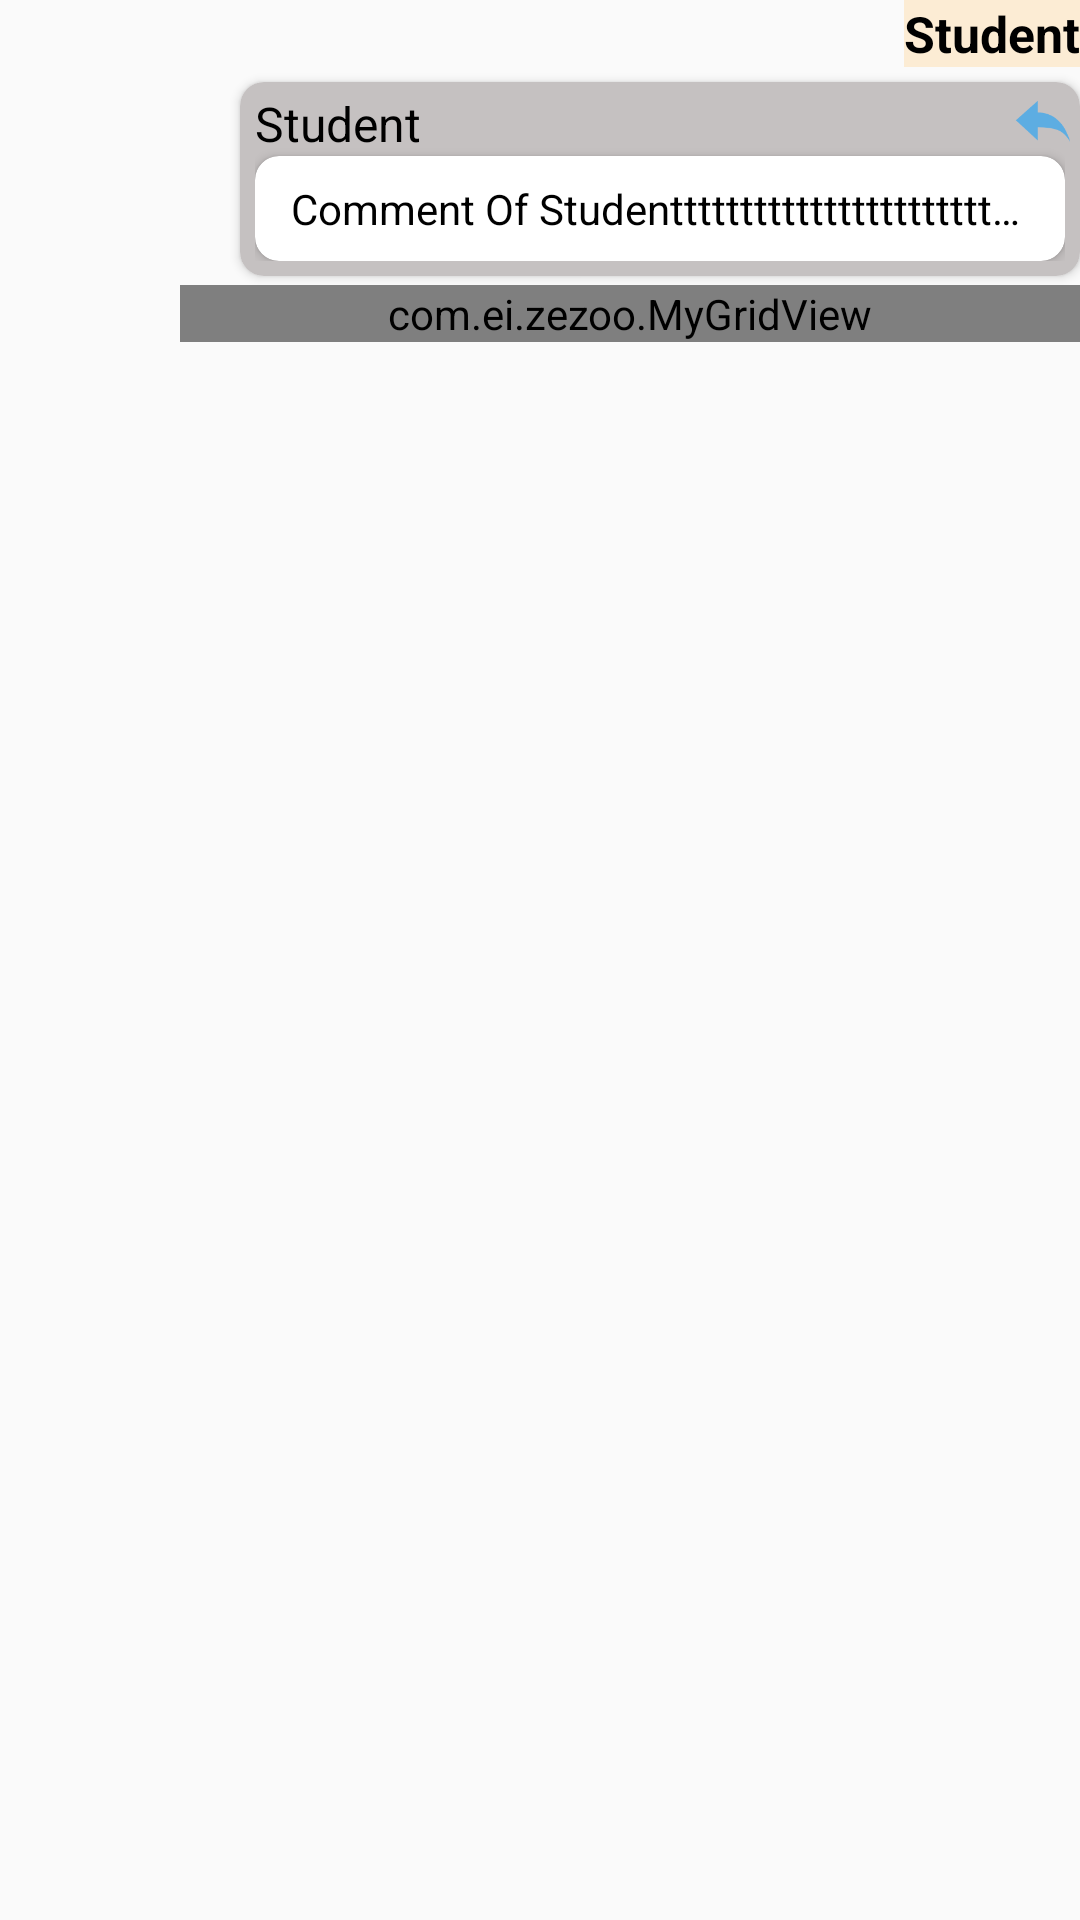

Screen size 1080w x 1920h. Icon name, then its center in pixels as (x=x, y=y):
reply: (x=1042, y=119)
